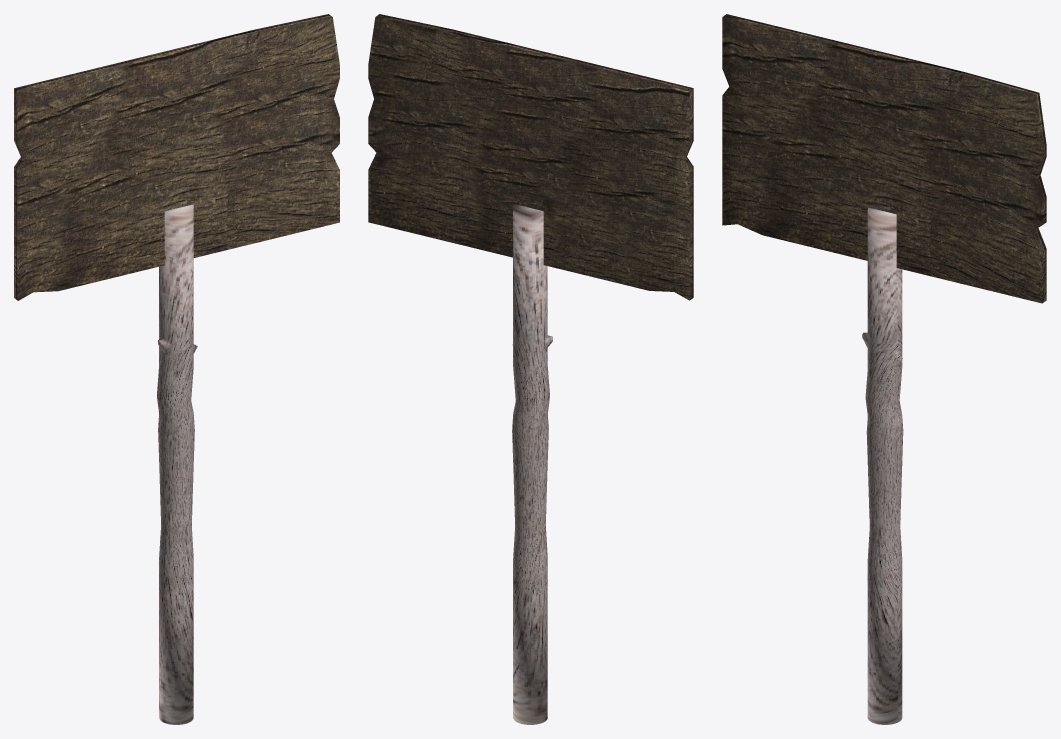
Rendered from Sign_Post.fbx.
The picture shows the model from 3 angles, left to right: view 1: azimuth 30°, elevation 25°; view 2: azimuth 150°, elevation 25°; view 3: azimuth 330°, elevation 25°; orthographic projection.
Parts seen in each view (by area): view 1: Cylinder; view 2: Cylinder; view 3: Cylinder.
Part boxes in pixels (<box>): Cylinder: <box>14,14,339,724</box>; Cylinder: <box>368,14,693,724</box>; Cylinder: <box>722,14,1046,724</box>.
Size of the model in its own units: 85.54 by 170 by 8.49.
1 material, 1 textured.
